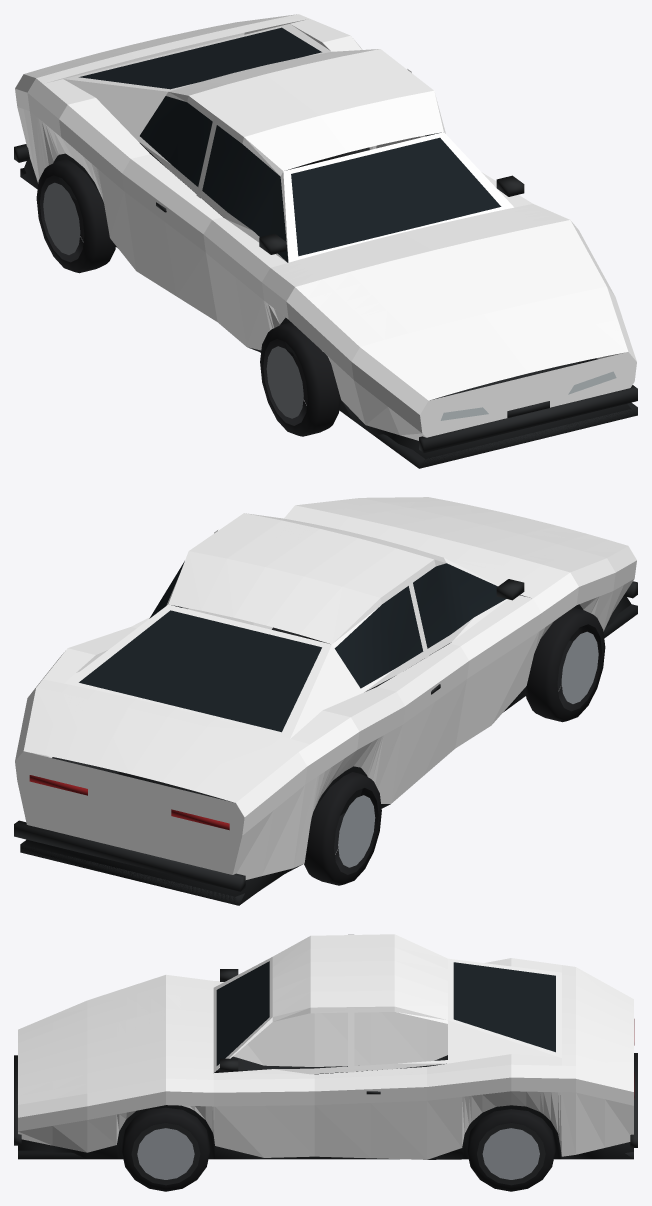
File: kanaya_rasante.glb
3 renders of one model, top to bottom at view 1: azimuth 30°, elevation 25°; view 2: azimuth 150°, elevation 25°; view 3: azimuth 270°, elevation 25°, orthographic. The views are drawn at different scales.
Parts seen in each view (by area): view 1: Body_Paint, Body_Details, Mount_FrontLeft_Wheel_Details, Mount_RearLeft_Wheel_Details; view 2: Body_Paint, Body_Details, Mount_FrontLeft_Wheel_Details, Mount_RearLeft_Wheel_Details; view 3: Body_Paint, Body_Details, Mount_FrontRight_Wheel_Details, Mount_RearRight_Wheel_Details.
Boxes of the visible parts, left/top/right/bottom form: Body_Paint: left=15, top=14, right=636, bottom=440; Body_Details: left=14, top=27, right=637, bottom=468; Mount_FrontLeft_Wheel_Details: left=260, top=322, right=340, bottom=436; Mount_RearLeft_Wheel_Details: left=36, top=159, right=115, bottom=273; Body_Paint: left=15, top=497, right=636, bottom=879; Body_Details: left=14, top=561, right=637, bottom=905; Mount_FrontLeft_Wheel_Details: left=525, top=607, right=605, bottom=722; Mount_RearLeft_Wheel_Details: left=304, top=772, right=381, bottom=885; Body_Paint: left=18, top=934, right=633, bottom=1159; Body_Details: left=14, top=961, right=637, bottom=1159; Mount_FrontRight_Wheel_Details: left=121, top=1107, right=210, bottom=1191; Mount_RearRight_Wheel_Details: left=467, top=1109, right=555, bottom=1191.
Bounding box in the file's own units: 1.91 × 1.34 × 4.45.
2 materials, 1 textured.
